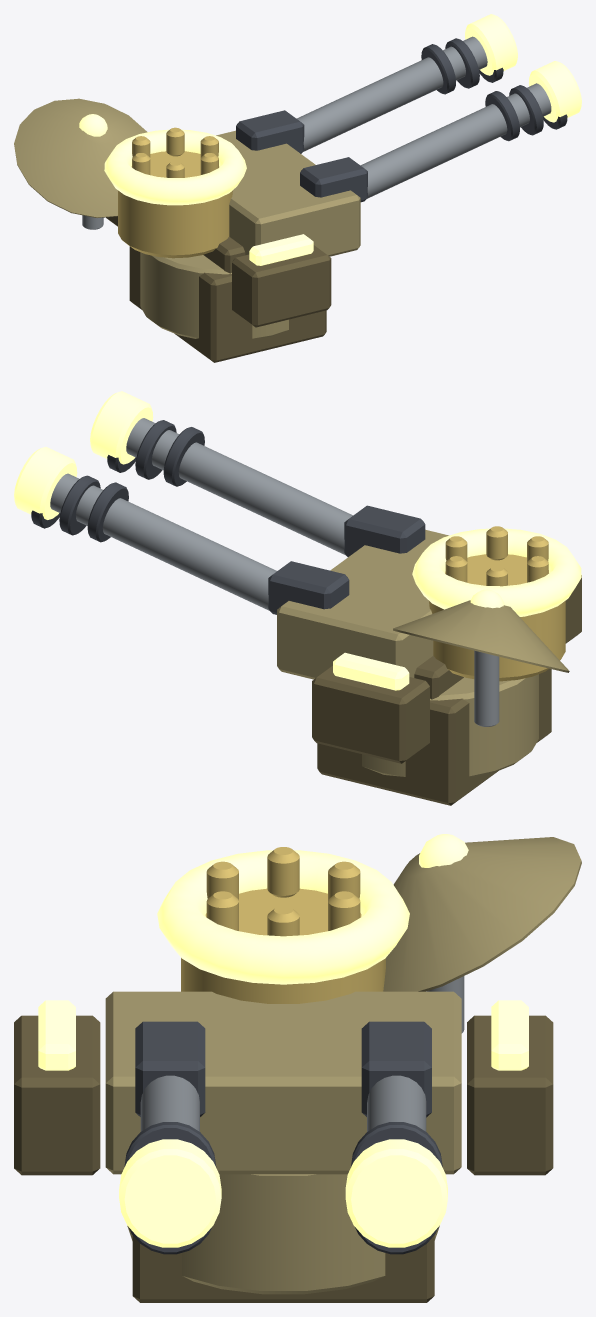
Rendered from flak_turret_l3.glb.
3 views of the same model, one above another, from view 1: azimuth 30°, elevation 25°; view 2: azimuth 150°, elevation 25°; view 3: azimuth 270°, elevation 25° (orthographic). The views are drawn at different scales.
Visible parts, largest first — view 1: Cube.002, Cone, Cylinder.011, Cube.005, Cube, Cylinder.001, Cylinder.006, Torus, Cylinder, Cube.003, Cube.004, Cylinder.005 (+9 smaller); view 2: Cube.002, Cube.007, Cube, Cylinder.001, Cylinder.006, Torus, Cylinder, Cone, Cylinder.011, Cube.004, Cube.003, Cylinder.005 (+10 smaller); view 3: Cube.002, Cone, Cylinder, Torus, Cube.005, Cube.007, Cylinder.005, Cylinder.010, Cube, Cylinder.011, Cube.003, Cube.004 (+13 smaller).
Part boxes in pixels (<box>): Cube.002: <box>216,130,360,256</box>; Cone: <box>14,98,147,217</box>; Cylinder.011: <box>118,151,232,258</box>; Cube.005: <box>232,245,331,327</box>; Cube: <box>129,246,326,362</box>; Cylinder.001: <box>360,83,551,198</box>; Cylinder.006: <box>296,36,487,151</box>; Torus: <box>104,129,246,205</box>; Cylinder: <box>140,252,288,338</box>; Cube.003: <box>300,157,367,202</box>; Cube.004: <box>236,110,304,153</box>; Cylinder.005: <box>529,61,581,122</box>; Cube.002: <box>277,529,448,679</box>; Cube.007: <box>312,666,429,763</box>; Cube: <box>317,668,551,805</box>; Cylinder.001: <box>126,418,352,554</box>; Cylinder.006: <box>50,473,276,610</box>; Torus: <box>412,528,581,616</box>; Cylinder: <box>362,674,538,777</box>; Cone: <box>393,600,569,672</box>; Cylinder.011: <box>429,554,565,681</box>; Cube.004: <box>268,561,349,614</box>; Cube.003: <box>344,505,425,556</box>; Cylinder.005: <box>90,391,153,464</box>; Cube.002: <box>105,991,461,1174</box>; Cone: <box>383,837,581,991</box>; Cylinder: <box>127,1174,439,1294</box>; Torus: <box>157,850,409,984</box>; Cube.005: <box>14,1015,100,1175</box>; Cube.007: <box>467,1015,553,1175</box>; Cylinder.005: <box>119,1139,221,1247</box>; Cylinder.010: <box>345,1139,447,1247</box>; Cube: <box>132,1235,434,1302</box>; Cylinder.011: <box>181,888,385,1003</box>; Cube.003: <box>135,1021,205,1116</box>; Cube.004: <box>361,1021,431,1117</box>.
Bounding box in the file's own units: 1.77 × 0.7503 × 1.05.
